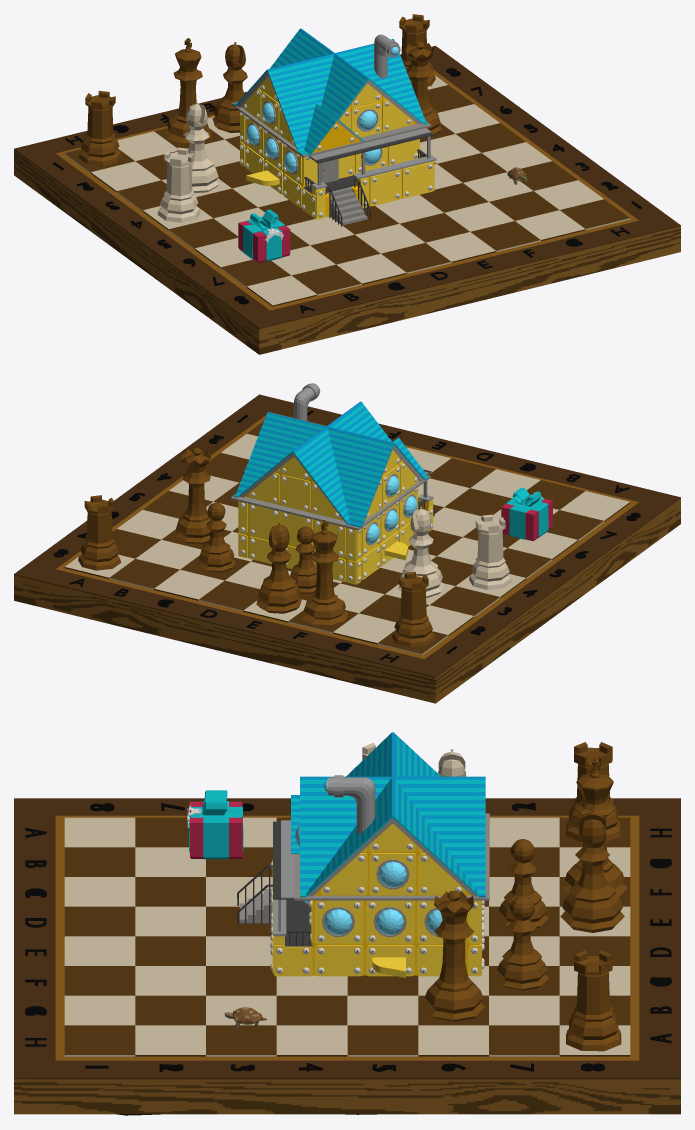
The picture shows the model from 3 angles, top to bottom: view 1: azimuth 30°, elevation 25°; view 2: azimuth 150°, elevation 25°; view 3: azimuth 270°, elevation 25°; orthographic projection. The views are drawn at different scales.
Parts seen in each view (by area): view 1: Cube.002, Cube.1366, OBJRANDOM_GIANT_PRESENT; view 2: Cube.002, Cube.1366, OBJRANDOM_GIANT_PRESENT; view 3: Cube.002, Cube.1366, OBJRANDOM_GIANT_PRESENT.
Part boxes in pixels (x1,y1,x2,y2): Cube.002: (14,14,680,354); Cube.1366: (231,28,436,226); OBJRANDOM_GIANT_PRESENT: (238,209,290,263); Cube.002: (14,394,680,703); Cube.1366: (230,383,434,584); OBJRANDOM_GIANT_PRESENT: (501,487,552,541); Cube.002: (14,742,680,1114); Cube.1366: (237,732,489,977); OBJRANDOM_GIANT_PRESENT: (187,790,243,859).
Bounding box in the file's own units: 3981 × 1544 × 4012.
Materials: 27 (2 with a texture image).
